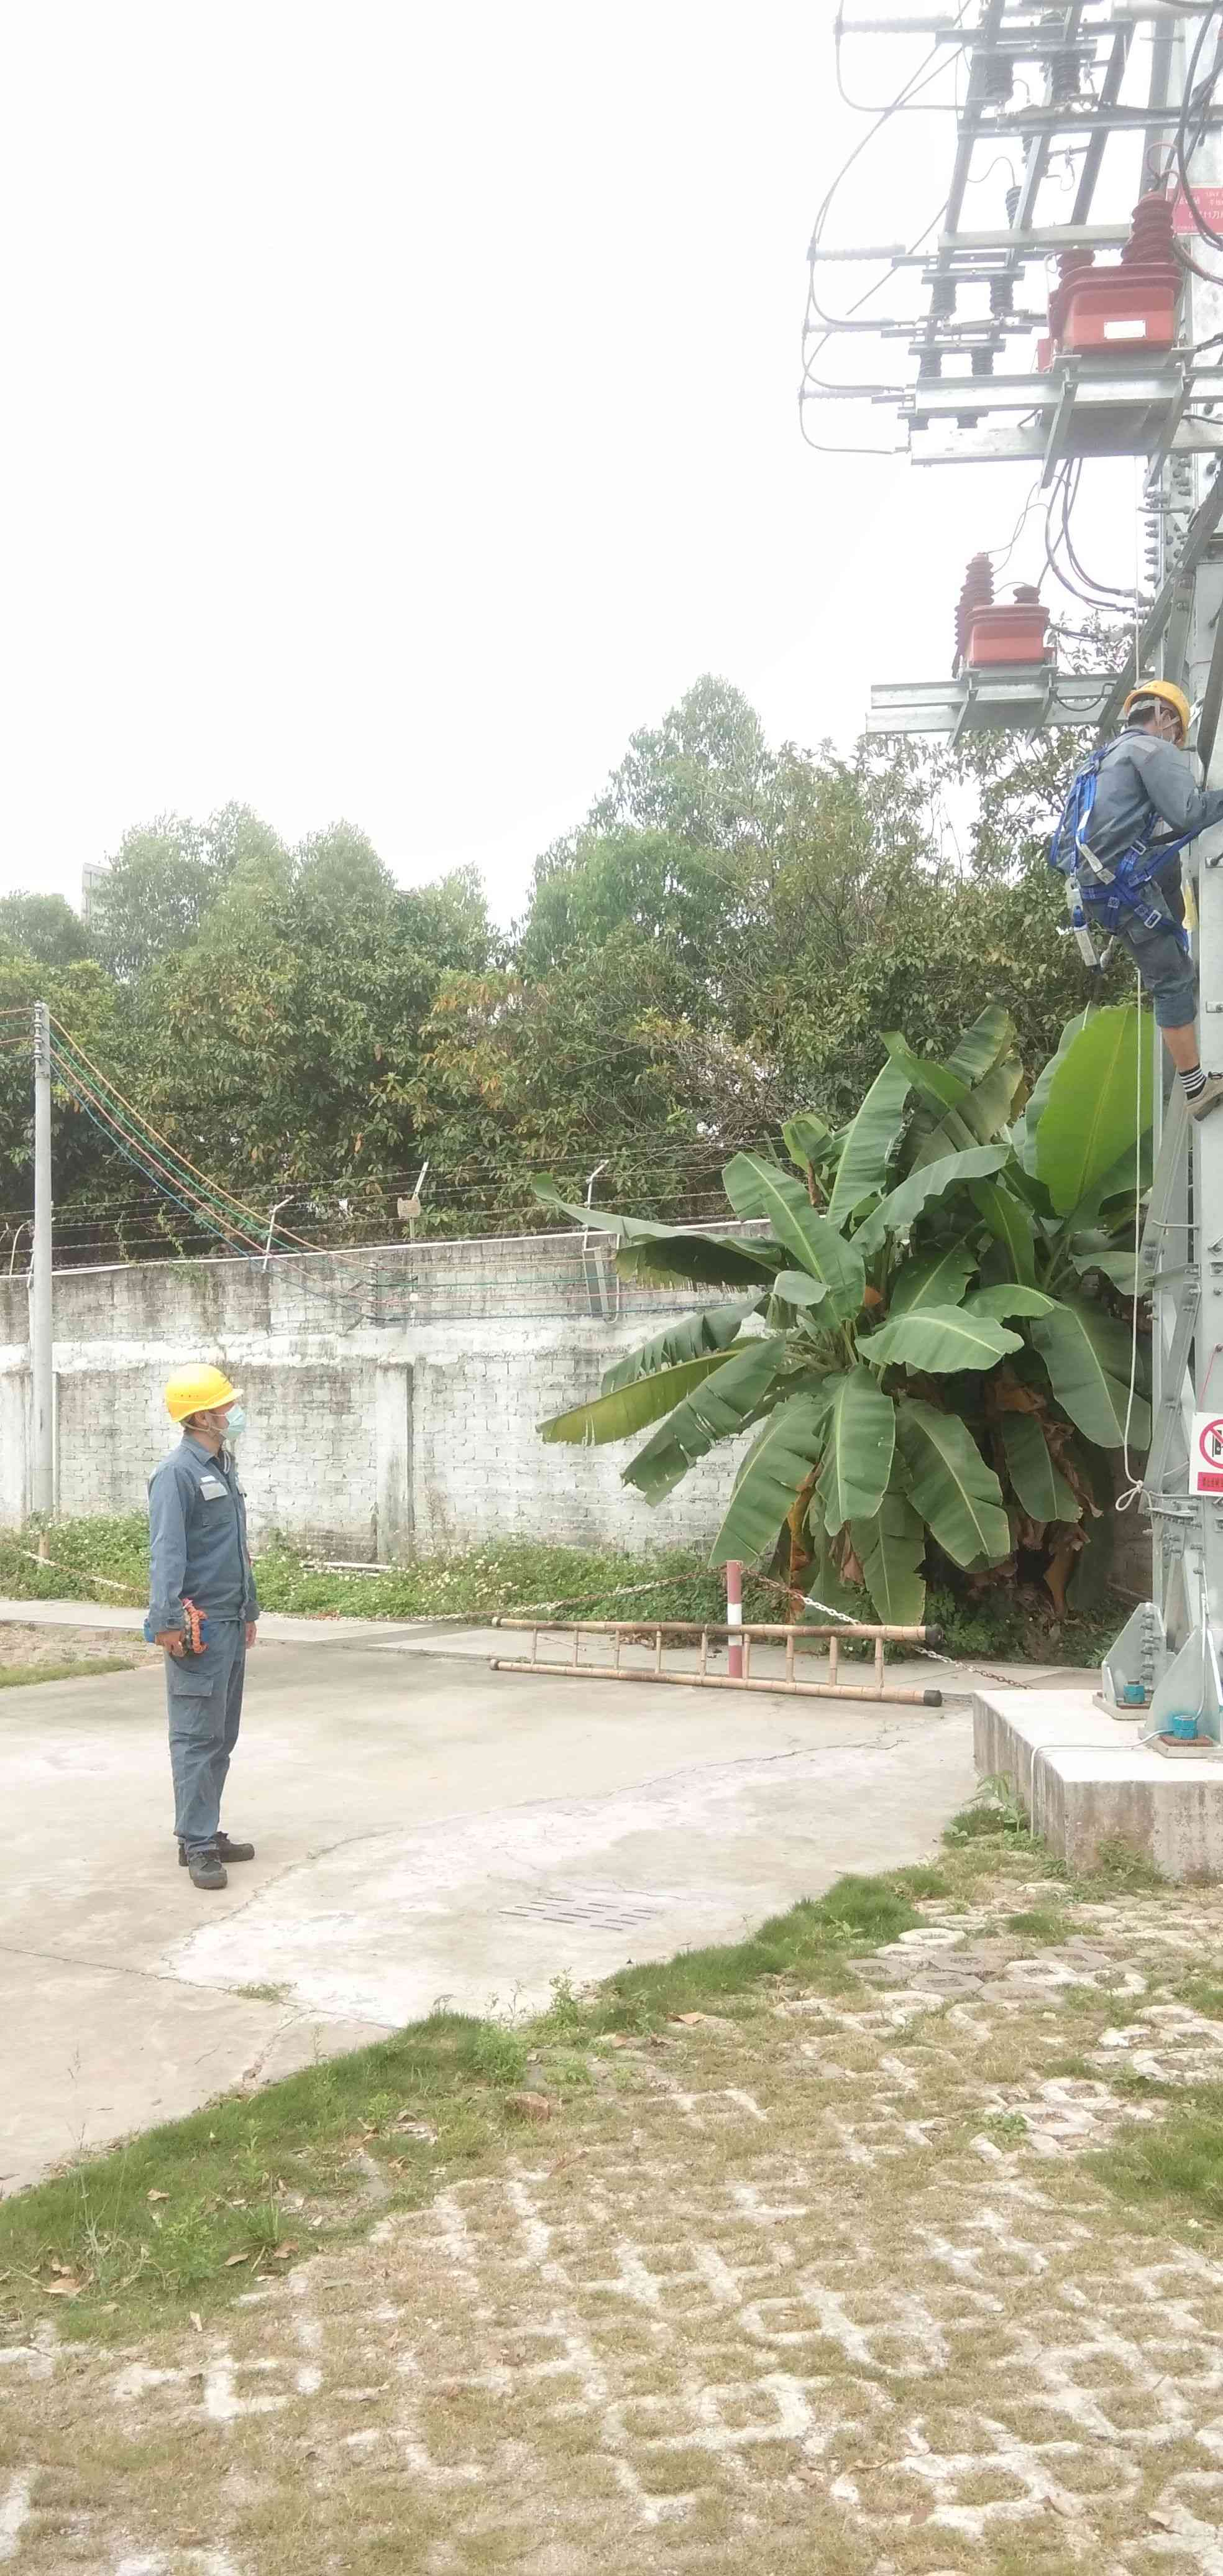downsuit: (1082, 877, 1205, 1043), (164, 1625, 254, 1850)
upsuit: (1062, 736, 1200, 871), (153, 1456, 254, 1613)
wrongbottom: (1157, 997, 1203, 1071)
